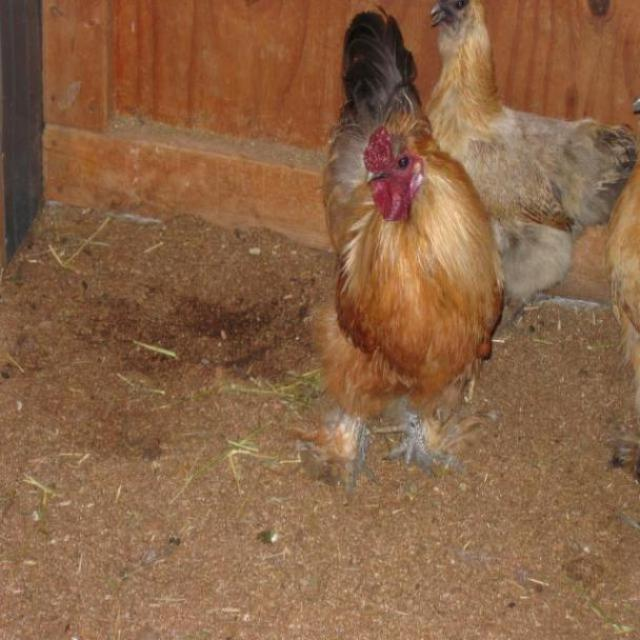Chicken: (309, 5, 497, 483), (424, 0, 639, 332)
